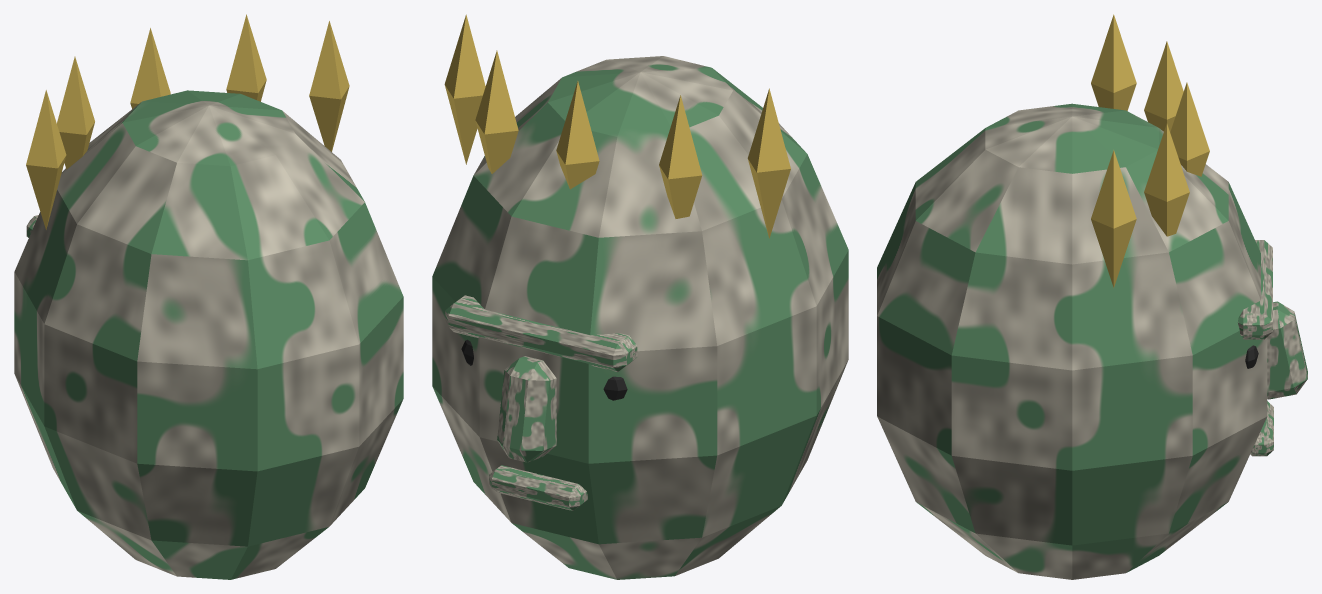
File: StatueHead.glb
3 renders of one model, left to right at view 1: azimuth 30°, elevation 25°; view 2: azimuth 150°, elevation 25°; view 3: azimuth 270°, elevation 25°, orthographic. The views are drawn at different scales.
Visible parts, largest first — view 1: StatueHead; view 2: StatueHead; view 3: StatueHead.
Boxes of the visible parts, x1,y1,x2,y2 form: StatueHead: (14, 14, 403, 579); StatueHead: (432, 14, 848, 579); StatueHead: (877, 14, 1307, 579).
Size of the model in its own units: 1.95 by 2.8 by 2.25.
1 material, 1 textured.
